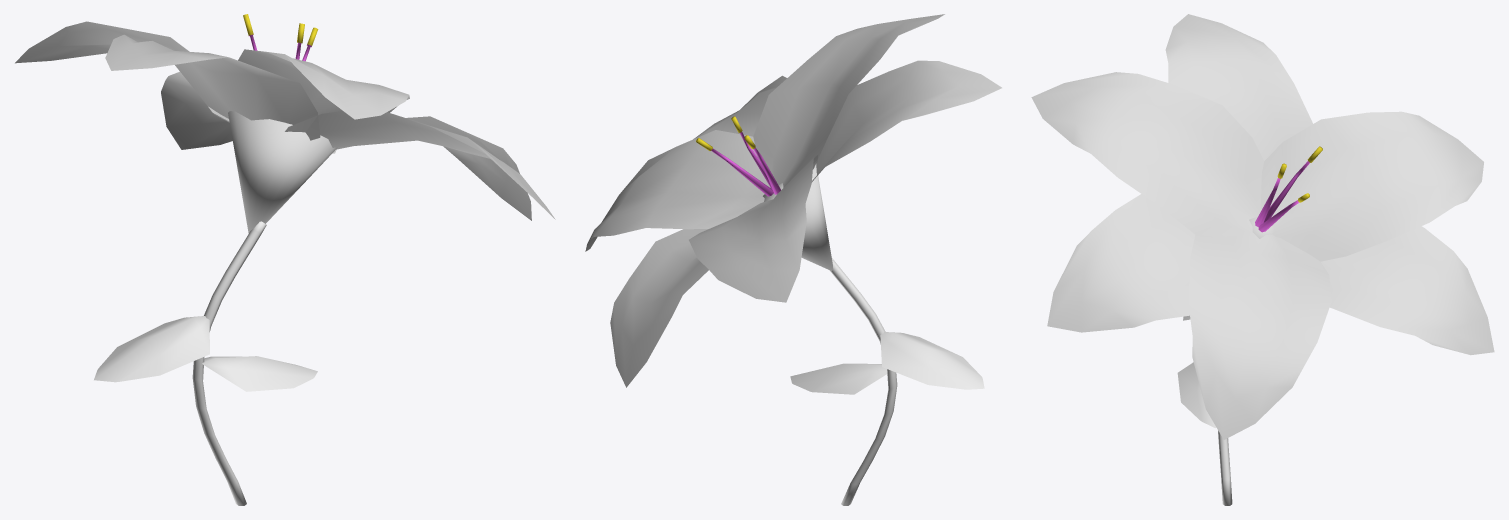
The model's file is Lily.fbx.
3 views of the same model, side by side, from view 1: azimuth 30°, elevation 25°; view 2: azimuth 150°, elevation 25°; view 3: azimuth 270°, elevation 25° (orthographic). The views are drawn at different scales.
Parts seen in each view (by area): view 1: Plane.001, Plane, Cone, Plane.003, Stem, Plane.002; view 2: Plane, Plane.001, Plane.003, Stem, Plane.002, Cone, Cylinder.002; view 3: Plane, Plane.001, Plane.002, Stem.
Part boxes in pixels (<box>): Plane.001: <box>105,34,555,219</box>; Plane: <box>15,21,531,220</box>; Cone: <box>228,111,337,233</box>; Plane.003: <box>94,316,209,382</box>; Stem: <box>192,221,266,505</box>; Plane.002: <box>202,356,317,391</box>; Plane: <box>585,14,944,302</box>; Plane.001: <box>610,60,1001,387</box>; Plane.003: <box>880,332,984,389</box>; Stem: <box>830,257,897,505</box>; Plane.002: <box>790,363,887,394</box>; Cone: <box>763,164,832,270</box>; Cylinder.002: <box>696,138,773,196</box>; Plane: <box>1031,72,1483,439</box>; Plane.001: <box>1047,14,1494,355</box>; Plane.002: <box>1177,362,1216,427</box>; Stem: <box>1218,430,1232,505</box>.
Size of the model in its own units: 853 by 903 by 888.
